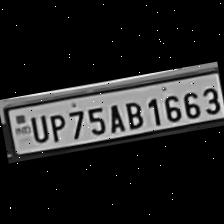1: (141, 93, 164, 127)
3: (196, 82, 220, 116)
5: (80, 102, 108, 136)
6: (159, 90, 183, 123), (178, 87, 202, 120)
7: (62, 105, 86, 140)
A: (102, 99, 125, 133)
B: (118, 96, 144, 130)
P: (42, 108, 67, 142)
U: (24, 110, 49, 144)
